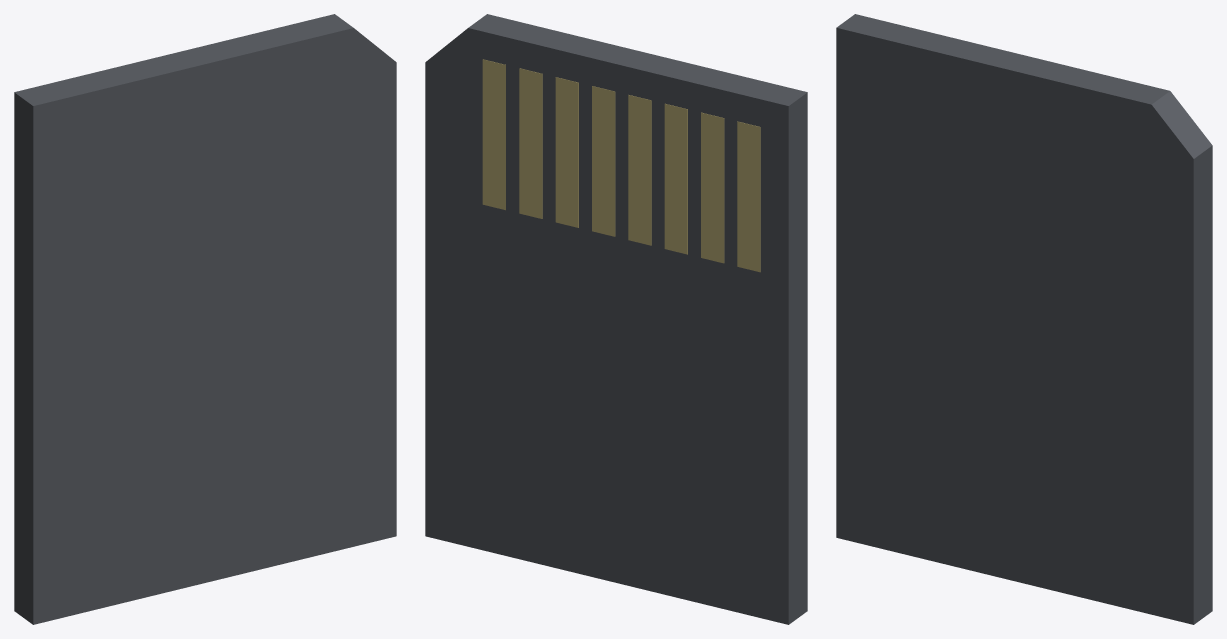
Rendered from micro-sd-card.glb.
The picture shows the model from 3 angles, left to right: view 1: azimuth 30°, elevation 25°; view 2: azimuth 150°, elevation 25°; view 3: azimuth 330°, elevation 25°; orthographic projection.
Parts seen in each view (by area): view 1: geometry_0; view 2: geometry_0; view 3: geometry_0.
Boxes of the visible parts, x1,y1,x2,y2 form: geometry_0: [14, 14, 396, 624]; geometry_0: [425, 14, 807, 624]; geometry_0: [836, 14, 1212, 624].
Size of the model in its own units: 11 by 15 by 1.01.
